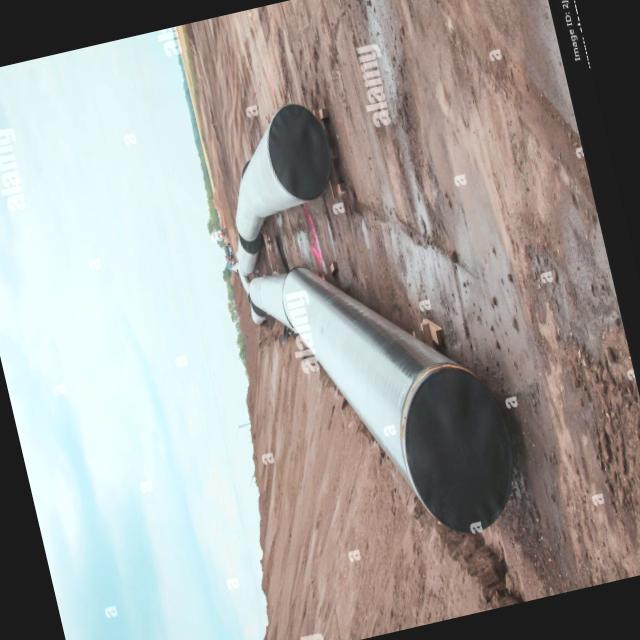gas: (235, 102, 512, 532)
